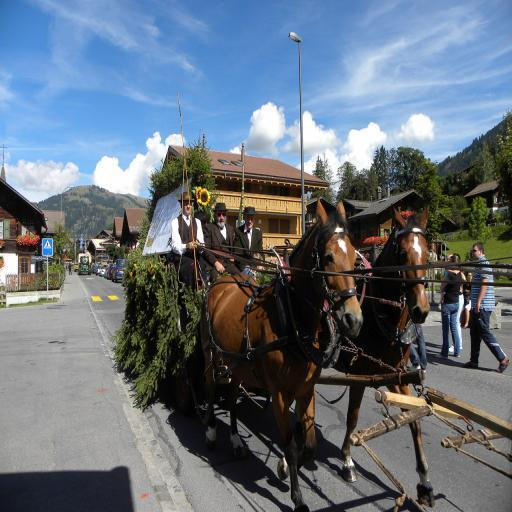horse: (196, 196, 360, 512), (309, 204, 431, 487)
